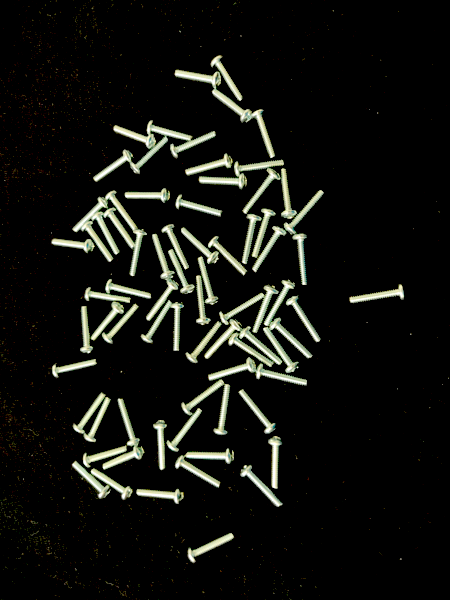longscrew: (239, 463, 284, 509), (237, 387, 279, 436), (240, 167, 282, 216), (284, 188, 325, 237), (270, 317, 315, 360), (261, 326, 300, 374), (173, 454, 223, 491), (285, 294, 322, 344), (251, 226, 288, 276), (207, 235, 249, 278), (238, 326, 283, 366), (227, 333, 276, 369), (166, 407, 203, 454), (209, 55, 245, 103), (203, 318, 243, 361), (181, 379, 227, 416), (187, 531, 237, 565), (263, 278, 297, 328), (71, 460, 112, 500), (179, 226, 220, 266), (130, 136, 170, 177), (102, 302, 140, 345), (211, 88, 255, 125), (186, 320, 222, 365), (140, 299, 174, 346), (219, 292, 266, 326), (72, 391, 108, 435), (105, 190, 141, 234), (168, 130, 219, 161), (71, 197, 111, 235), (251, 283, 280, 335), (250, 108, 279, 160), (145, 279, 180, 322), (92, 149, 135, 184), (90, 467, 134, 501), (90, 302, 126, 343), (81, 221, 115, 264), (250, 207, 278, 259), (162, 223, 192, 271), (349, 283, 410, 306), (83, 396, 112, 444), (207, 356, 258, 383), (104, 207, 136, 250), (166, 249, 195, 296), (116, 396, 142, 448), (176, 193, 226, 220), (92, 211, 121, 257), (183, 152, 234, 178), (255, 364, 310, 388), (232, 156, 286, 179), (151, 232, 176, 281), (102, 444, 147, 471), (112, 124, 157, 151), (196, 256, 220, 306), (292, 232, 313, 288), (241, 213, 263, 266), (146, 119, 194, 143), (82, 445, 128, 470), (173, 68, 224, 90), (268, 435, 288, 491), (52, 357, 100, 380), (104, 278, 154, 300), (128, 228, 149, 278), (196, 173, 251, 192), (84, 285, 133, 306), (214, 384, 233, 437), (279, 167, 298, 220), (185, 447, 237, 466), (194, 274, 212, 327), (135, 487, 185, 506), (124, 187, 173, 206), (153, 419, 170, 472), (51, 237, 97, 256), (79, 305, 96, 355), (171, 301, 186, 354)
